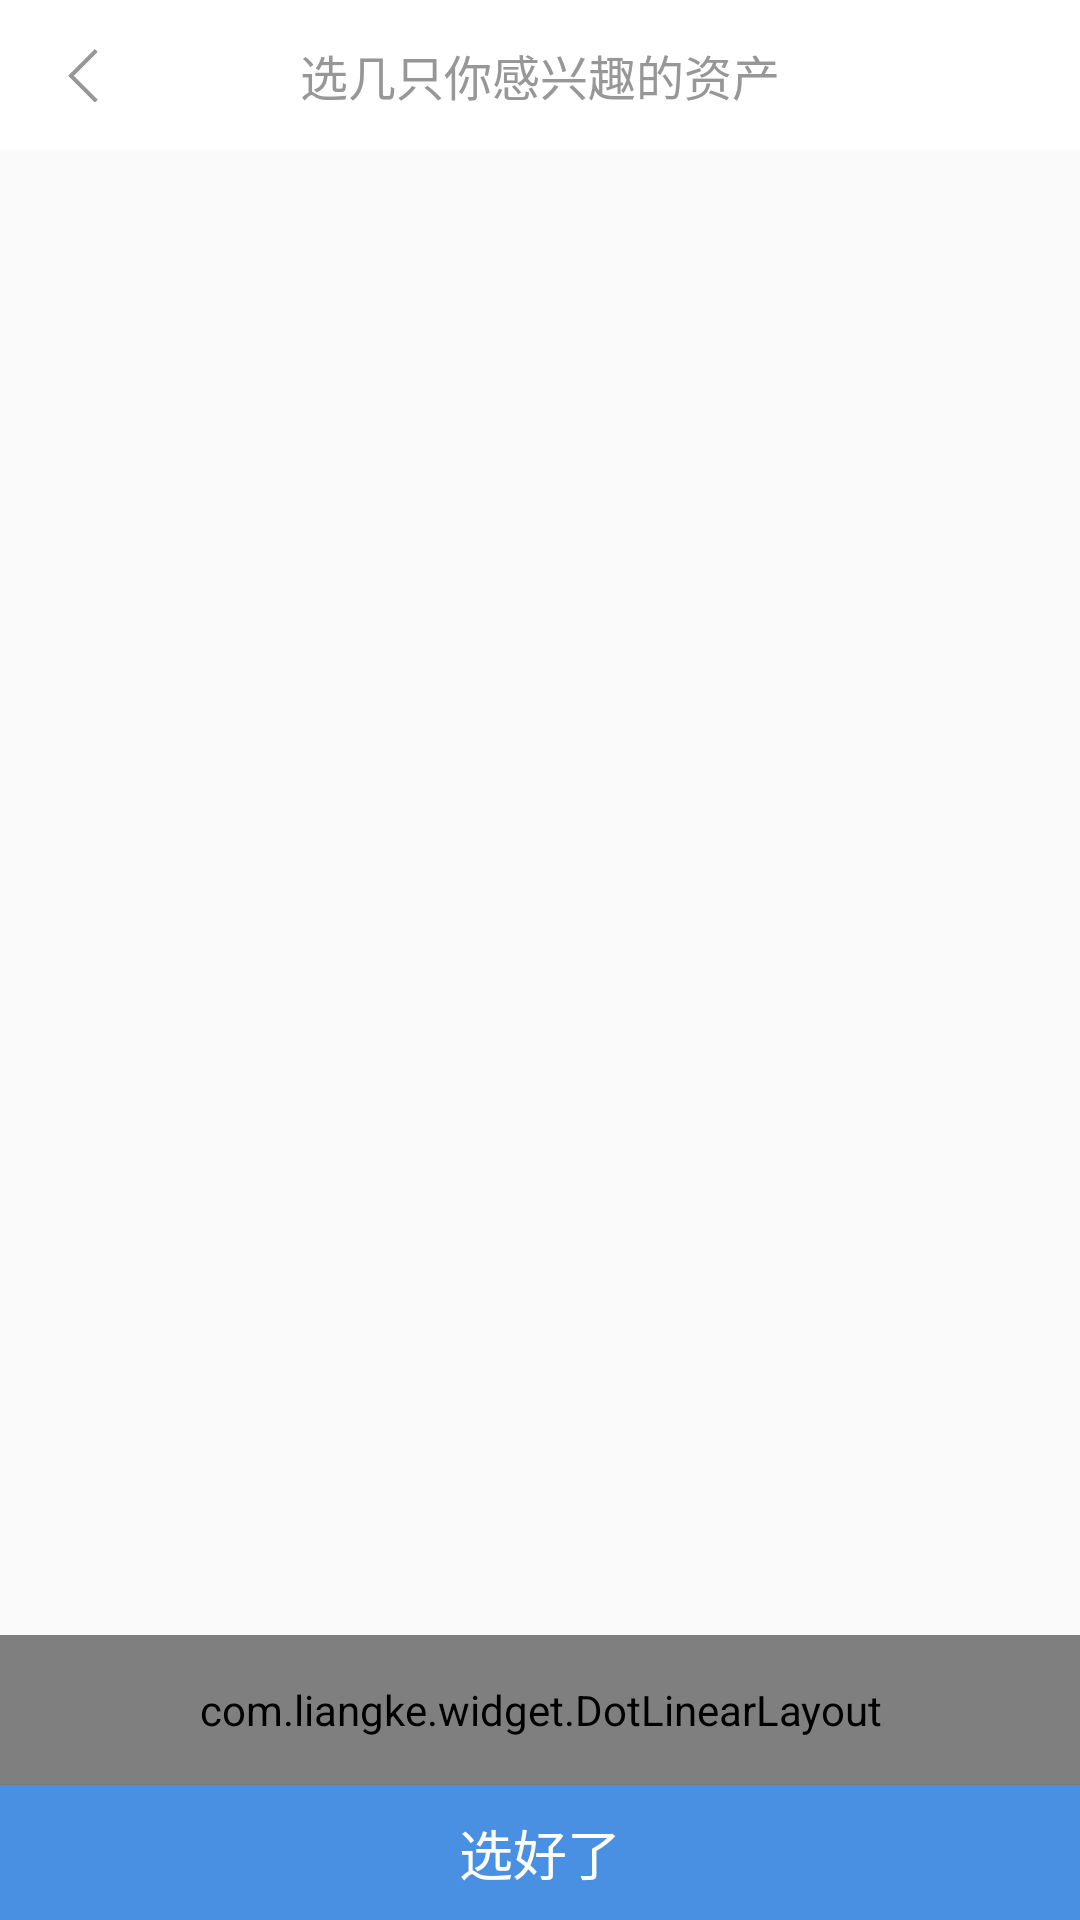

Named icons in this screenshot (1080 x 1920) and their bounding boxes, box(x1, y1, x2, y2):
back: box(68, 49, 98, 102)
